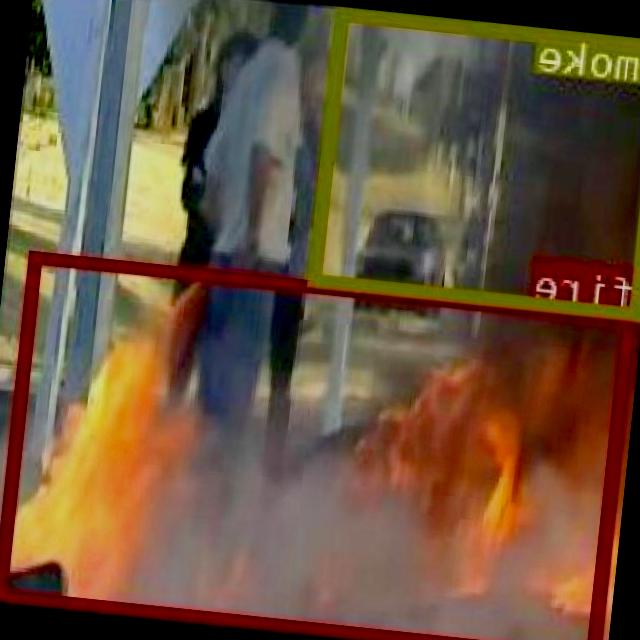fire: (0, 248, 637, 640)
smoke: (313, 3, 640, 316)
